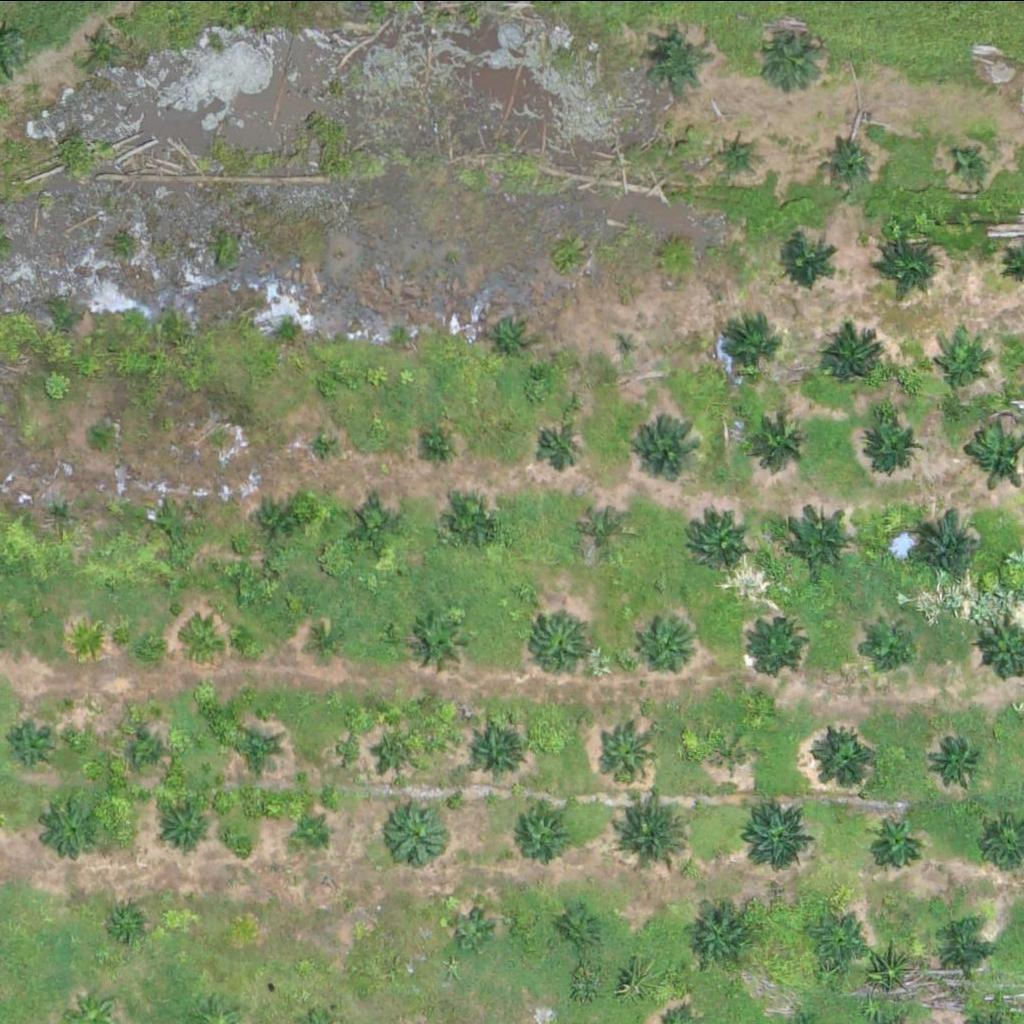Kelapa_Sawit: (865, 407, 941, 482), (784, 504, 860, 579), (637, 411, 713, 486), (739, 403, 815, 478), (618, 799, 693, 874), (732, 797, 807, 872), (916, 506, 991, 581), (382, 805, 445, 868), (758, 18, 821, 81), (642, 29, 705, 92), (714, 314, 777, 377), (816, 729, 879, 792), (923, 724, 986, 787), (692, 907, 755, 969), (509, 805, 572, 867), (41, 800, 104, 862), (876, 229, 939, 291), (466, 722, 529, 784), (776, 230, 839, 292), (746, 612, 809, 674), (822, 325, 884, 388), (688, 509, 751, 571), (410, 612, 473, 674), (443, 492, 506, 554), (530, 614, 593, 676), (641, 610, 704, 672), (595, 720, 658, 782), (344, 493, 407, 555), (819, 917, 870, 967), (870, 822, 921, 872), (162, 806, 213, 856), (232, 729, 283, 779), (536, 423, 587, 473), (941, 922, 991, 972), (12, 725, 62, 775), (931, 342, 981, 392), (864, 623, 914, 673), (820, 139, 870, 189), (581, 508, 631, 558), (484, 309, 534, 359), (375, 728, 425, 778), (126, 724, 176, 774), (718, 134, 756, 172), (956, 144, 994, 182), (84, 24, 122, 62), (69, 621, 107, 659), (658, 237, 696, 275), (306, 423, 344, 461), (258, 499, 296, 537), (191, 619, 229, 657), (311, 620, 349, 658), (149, 503, 187, 541), (112, 904, 150, 942), (563, 906, 601, 943), (712, 731, 750, 768), (43, 495, 81, 532), (295, 814, 333, 851), (451, 911, 488, 948), (422, 434, 448, 459), (83, 422, 108, 447), (612, 330, 637, 355)
